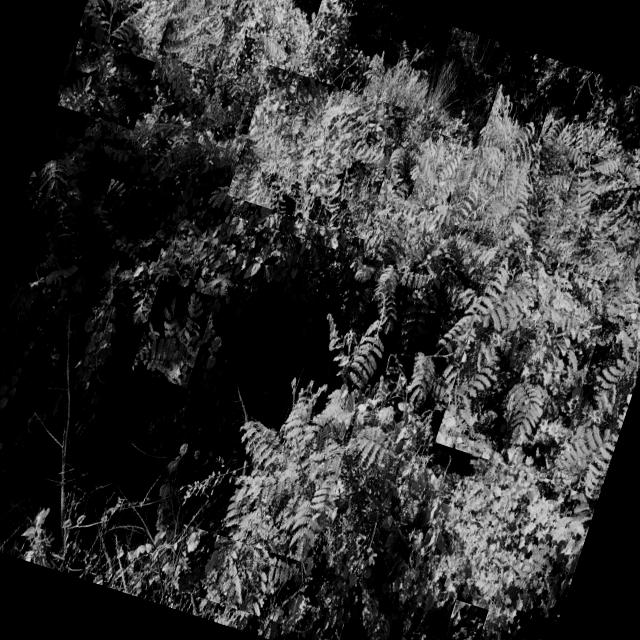Mysore-Thorn-Weed: (435, 135, 640, 496), (202, 303, 422, 594), (226, 65, 406, 240), (551, 296, 640, 499), (230, 130, 374, 252), (454, 83, 551, 241), (170, 526, 308, 626), (8, 137, 106, 263), (544, 166, 640, 291), (132, 280, 216, 388), (58, 38, 156, 130), (232, 0, 322, 93), (91, 178, 177, 262), (157, 0, 247, 71), (510, 368, 572, 456), (408, 132, 468, 216), (431, 600, 488, 640)
